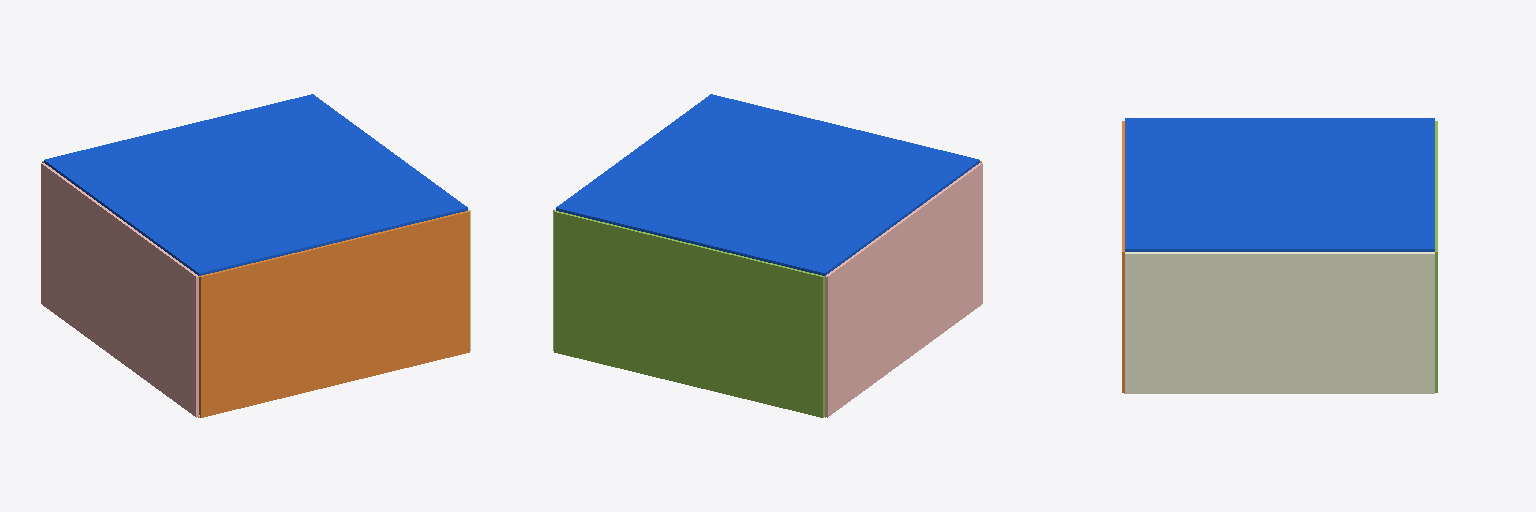
Rendered from roomtestbig.obj.
3 views of the same model, side by side, from view 1: azimuth 30°, elevation 25°; view 2: azimuth 150°, elevation 25°; view 3: azimuth 270°, elevation 25° (orthographic).
Visible parts, largest first — view 1: Ceiling_Cube.005, Wall3_Cube.008, Wall1_Cube.006; view 2: Ceiling_Cube.005, Wall4_Cube.009, Wall1_Cube.006; view 3: Wall2_Cube.007, Ceiling_Cube.005, Wall3_Cube.008, Wall4_Cube.009.
Boxes of the visible parts, x1,y1,x2,y2 form: Ceiling_Cube.005: [44, 94, 467, 275]; Wall3_Cube.008: [199, 211, 469, 417]; Wall1_Cube.006: [41, 163, 198, 417]; Ceiling_Cube.005: [556, 94, 979, 275]; Wall4_Cube.009: [554, 211, 824, 417]; Wall1_Cube.006: [825, 163, 982, 417]; Wall2_Cube.007: [1125, 252, 1434, 393]; Ceiling_Cube.005: [1125, 118, 1434, 251]; Wall3_Cube.008: [1122, 121, 1124, 392]; Wall4_Cube.009: [1435, 121, 1437, 392].
Size of the model in its own units: 10.2 by 5.13 by 10.2.